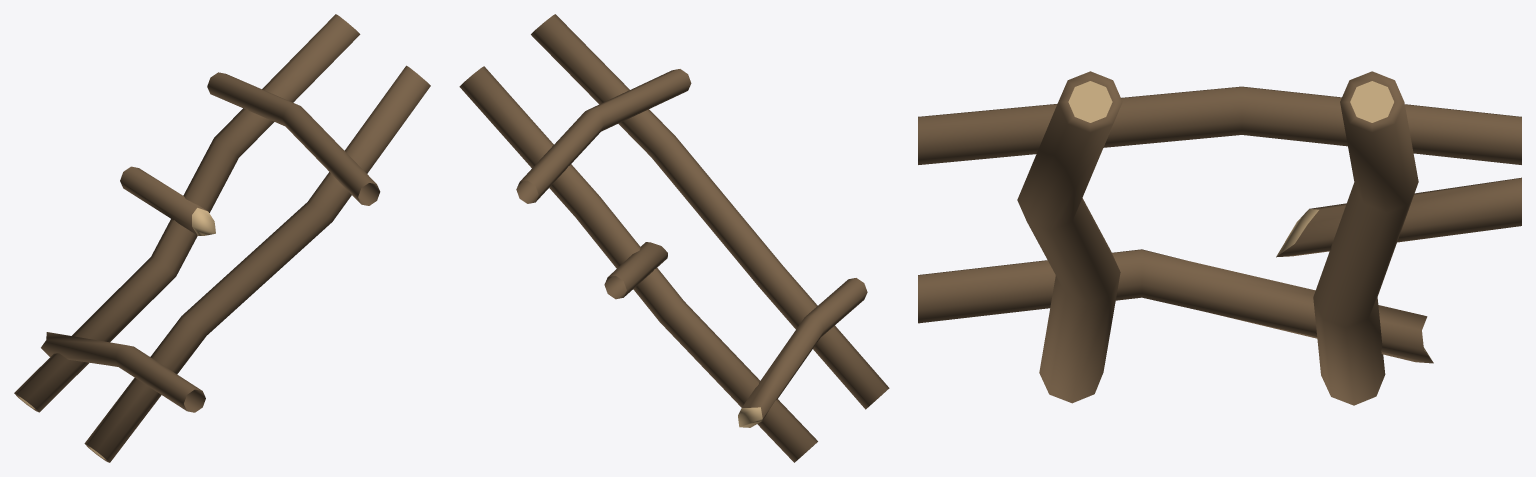
Rendered from rpgpp_av_roof_support_01_6x3x3_half_b.fbx.
3 renders of one model, left to right at view 1: azimuth 30°, elevation 25°; view 2: azimuth 150°, elevation 25°; view 3: azimuth 270°, elevation 25°, orthographic. The views are drawn at different scales.
Parts seen in each view (by area): view 1: rpgpp_av_roof_support_01_6x3x3_half_b; view 2: rpgpp_av_roof_support_01_6x3x3_half_b; view 3: rpgpp_av_roof_support_01_6x3x3_half_b.
Part boxes in pixels (bbox=[...]): rpgpp_av_roof_support_01_6x3x3_half_b: bbox=[14, 14, 430, 462]; rpgpp_av_roof_support_01_6x3x3_half_b: bbox=[459, 14, 889, 462]; rpgpp_av_roof_support_01_6x3x3_half_b: bbox=[918, 71, 1521, 405].
Bounding box in the file's own units: 3.96 × 3.48 × 3.
